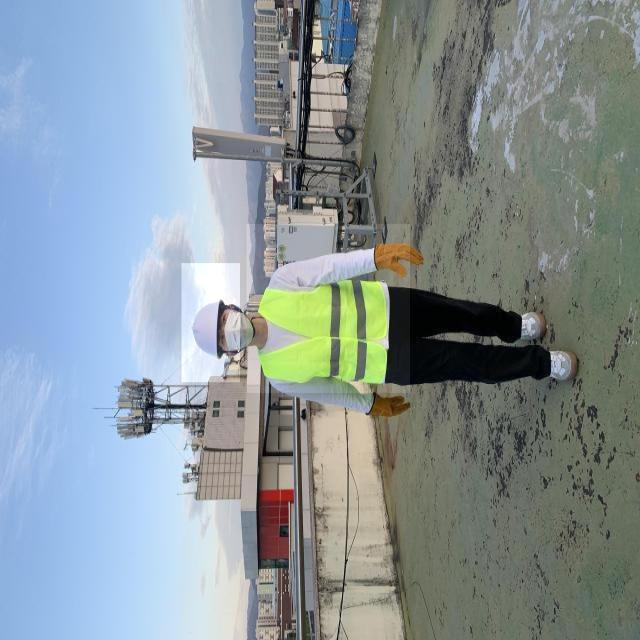Helmet: (182, 263, 240, 382)
Safety Vest: (246, 224, 410, 393)
